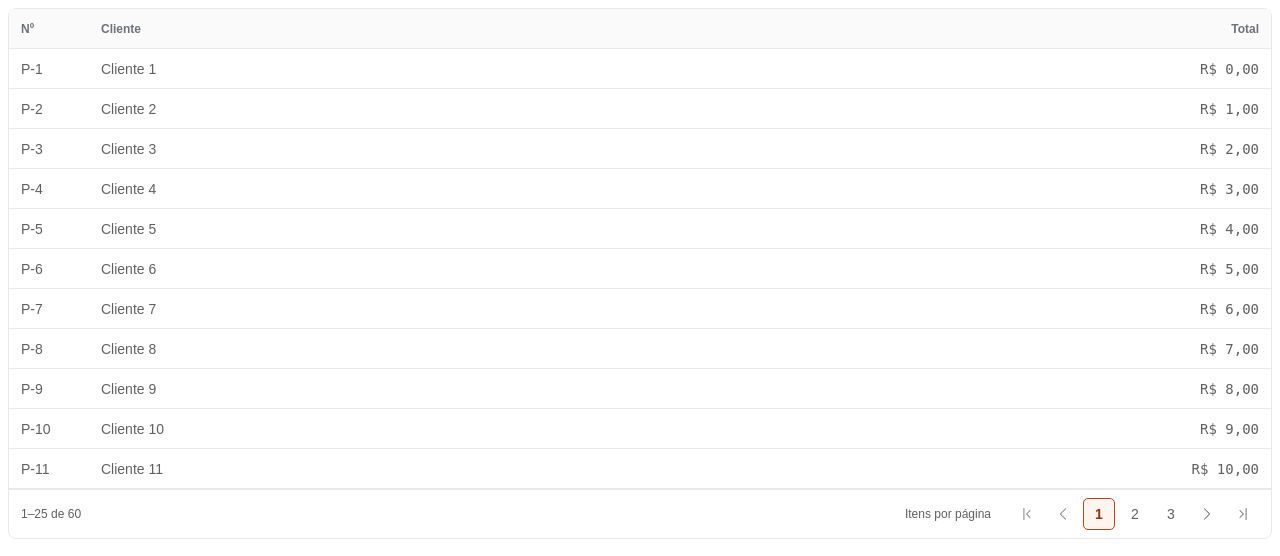
Test: DataGrid › pagination › shows one page at a time with the range and keeps the absolute row index
Expected: the text "1–25 de 60" is shown, [21,507,81,521]
Click the button named "Próxima página".
click(1207, 514)  # box [1191,498,1223,530]
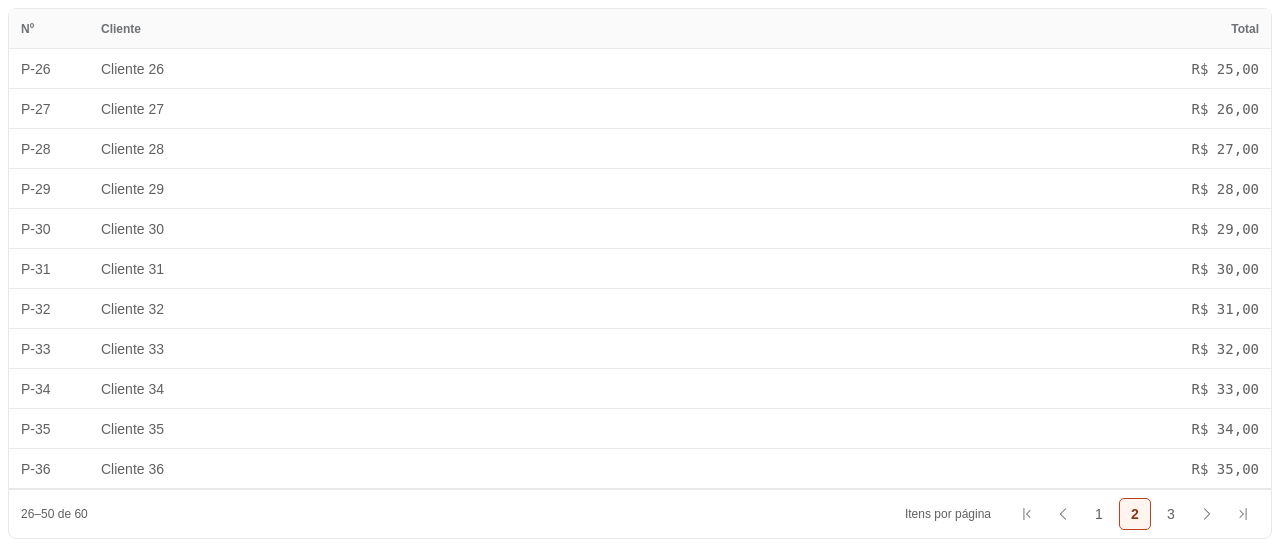
Result: the text "P-26" is shown at [21,60,51,76]
